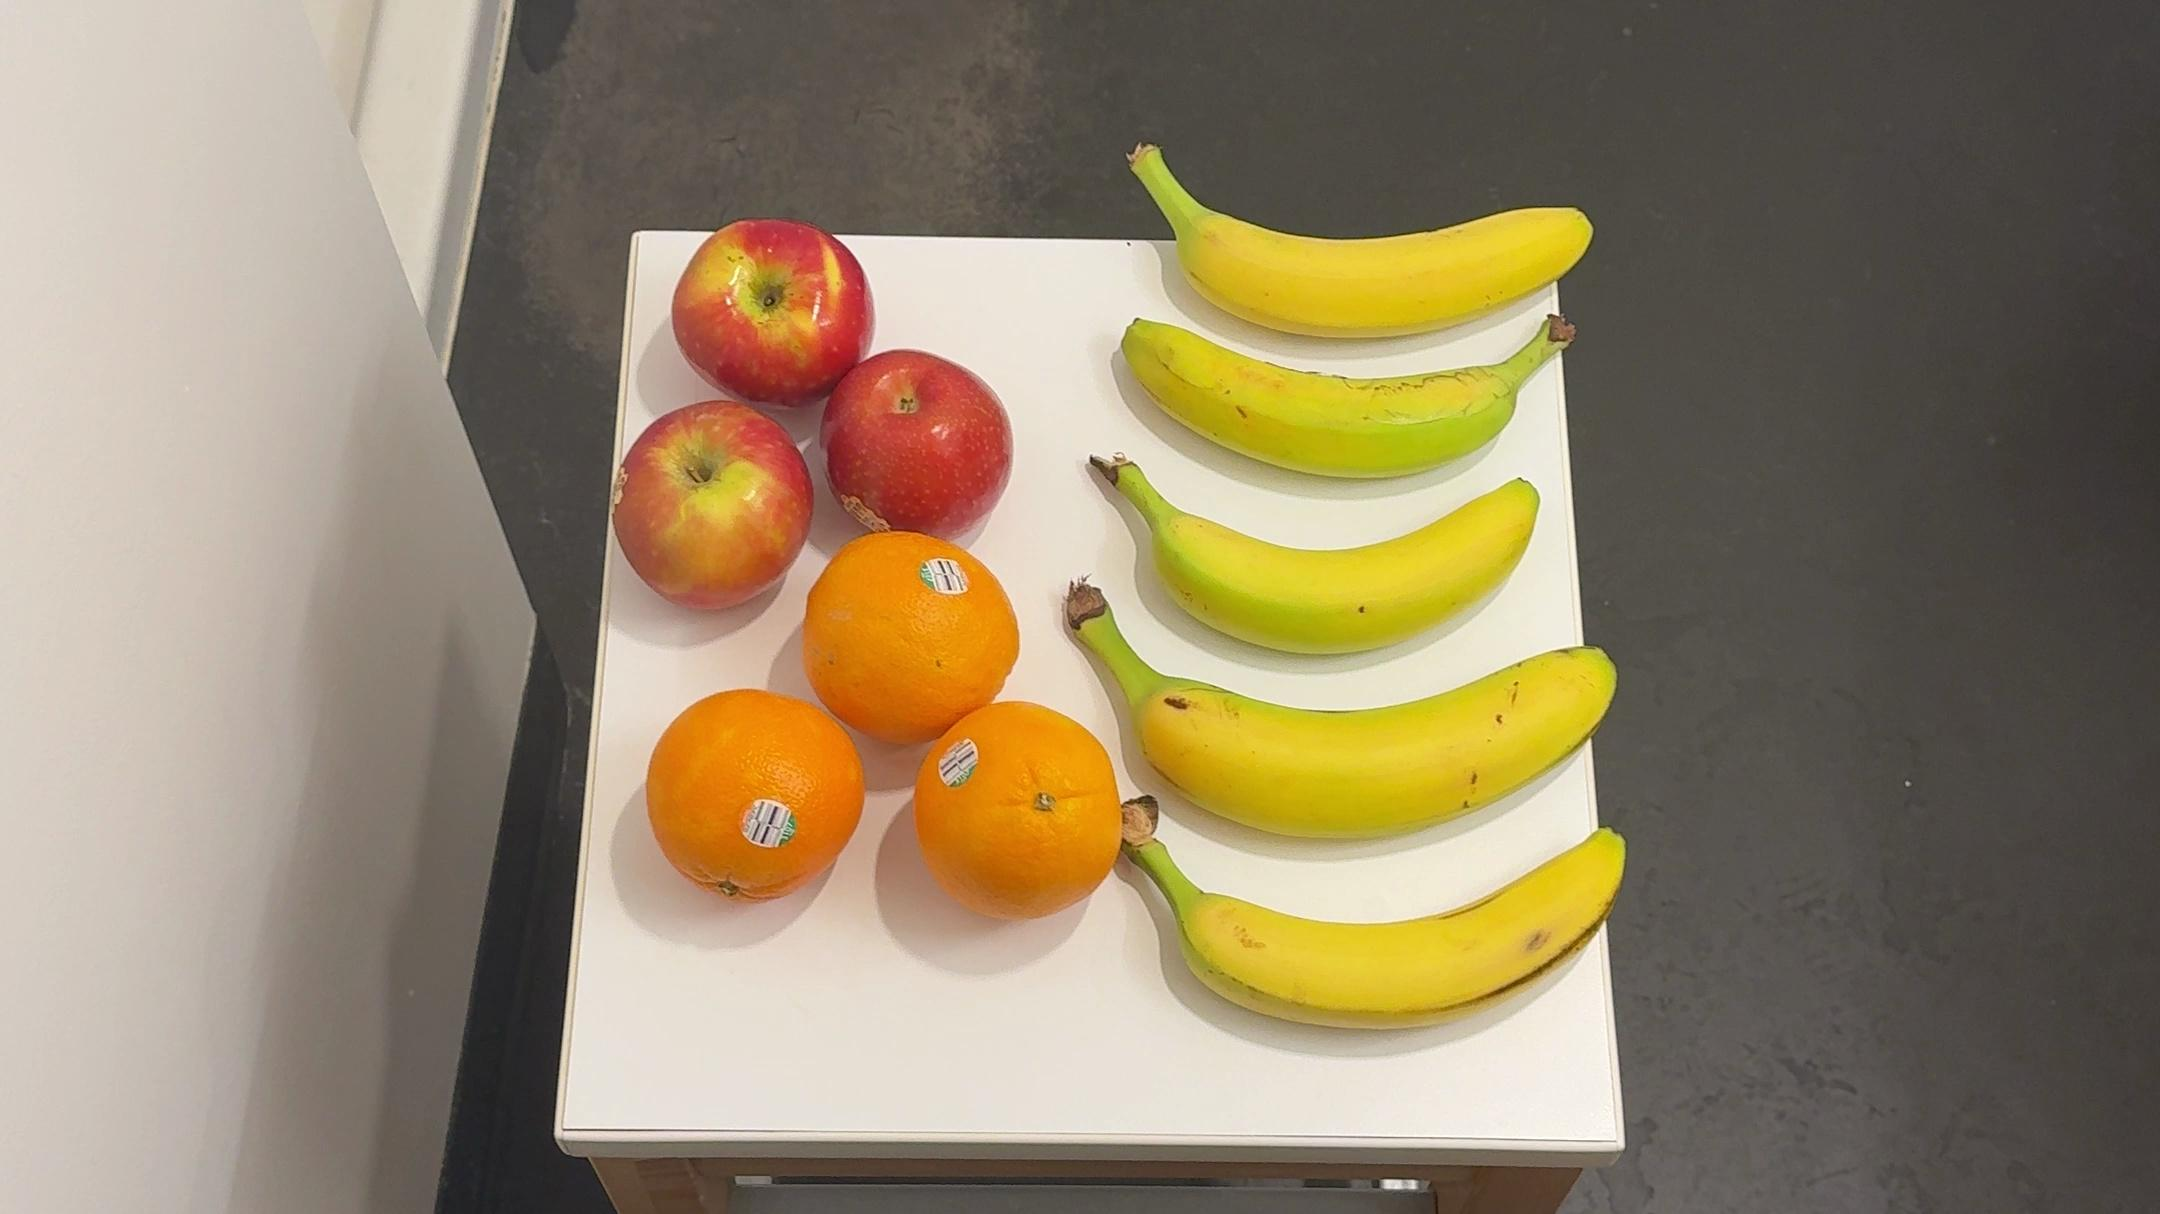apple: (826, 343, 1021, 562), (607, 413, 814, 611), (669, 211, 874, 401)
banana: (1047, 574, 1636, 841), (1113, 793, 1641, 1040), (1081, 430, 1549, 669), (1116, 128, 1607, 341), (1105, 298, 1586, 479)
orange: (642, 681, 869, 911), (800, 539, 1027, 748), (915, 705, 1126, 922)
